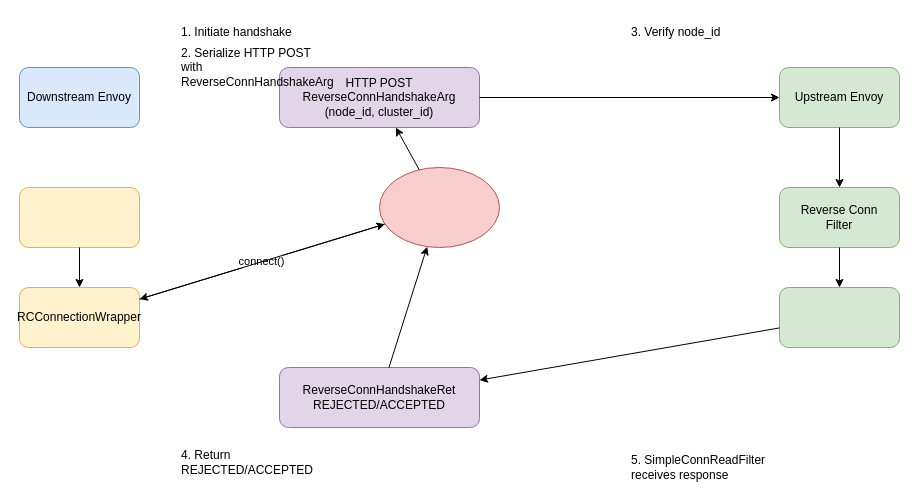
The diagram is 917 pixels wide and 504 high, and some of its shapes have lost their labels. The shapes that lost their labels are listed below. From the top down, each one's centre as x and y in pixels, then its label:
At [79,217]: "Reverse Tunnel IOHandle".
At [439,207]: "TCP Connection".
At [839,317]: "SimpleConnReadFilter".
